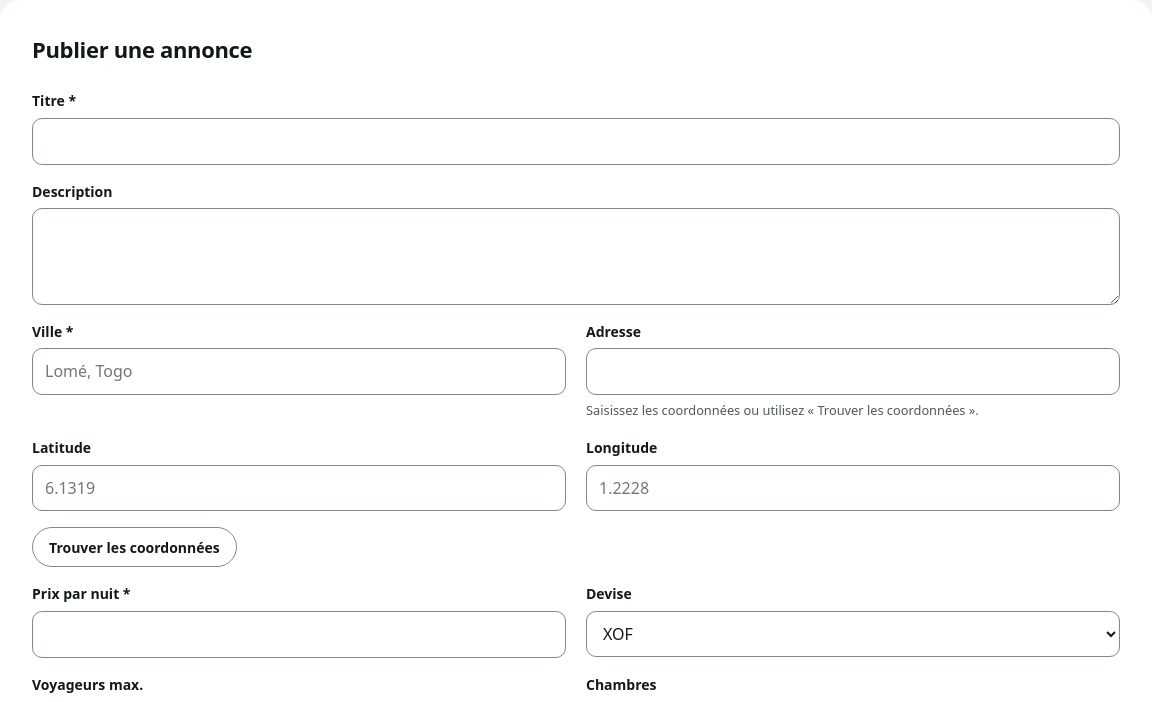
ListingForm › finds coordinates through the API geocoder
This screenshot has width=1152, height=702.
Type "Boulevard du 13 janvier, Lomé" into the field labelled "Adresse".
click(853, 372); type("Boulevard du 13 janvier, Lomé")  # box 586,348 -> 1120,395
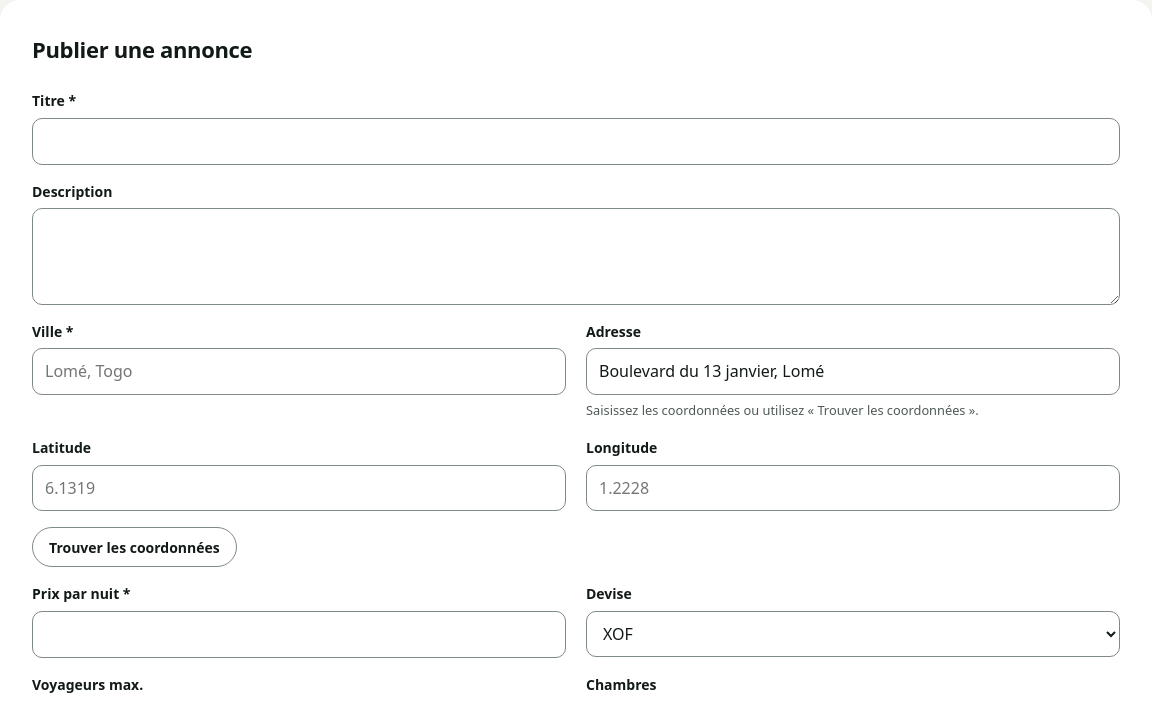
Click the button "Trouver les coordonnées".
click(134, 548)  # box 32,528 -> 237,568
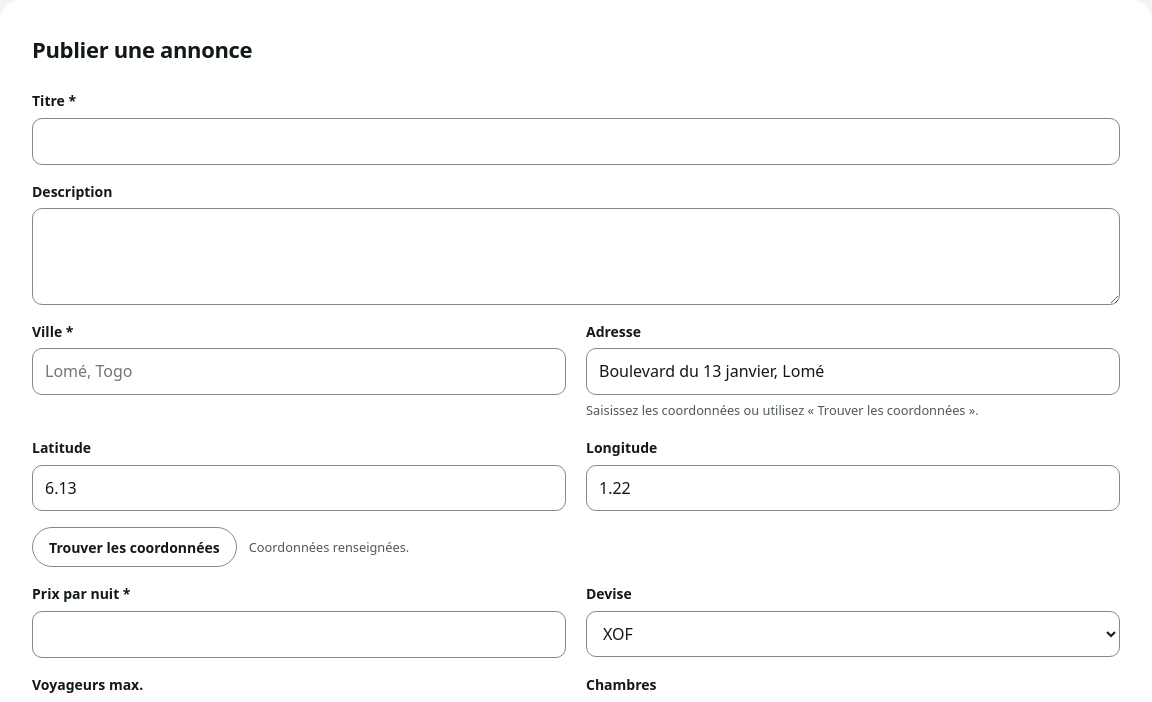
Expected: the field labelled "Latitude" holds "6.13", 32,465 -> 566,512
Expected: the field labelled "Longitude" holds "1.22", 586,465 -> 1120,512
